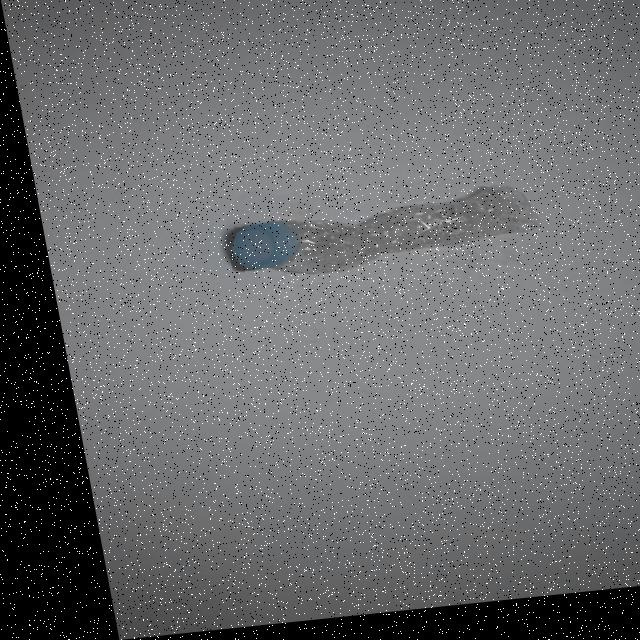plasticbottlecap: (213, 219, 293, 280)
